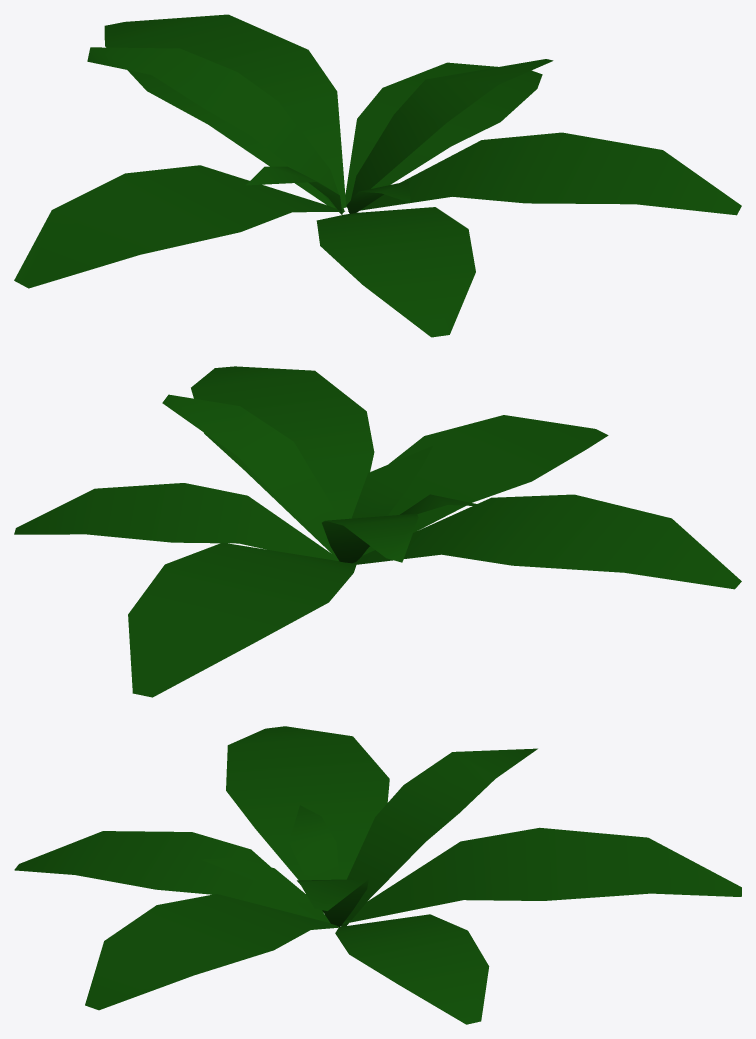
Rendered from Foliage small.fbx.
The picture shows the model from 3 angles, top to bottom: view 1: azimuth 30°, elevation 25°; view 2: azimuth 150°, elevation 25°; view 3: azimuth 270°, elevation 25°; orthographic projection. The views are drawn at different scales.
Parts seen in each view (by area): view 1: foliage small; view 2: foliage small; view 3: foliage small.
Boxes of the visible parts, x1,y1,x2,y2 form: foliage small: (14, 14, 741, 337); foliage small: (14, 366, 741, 697); foliage small: (14, 726, 741, 1024).
Size of the model in its own units: 53.24 by 10.24 by 58.27.
